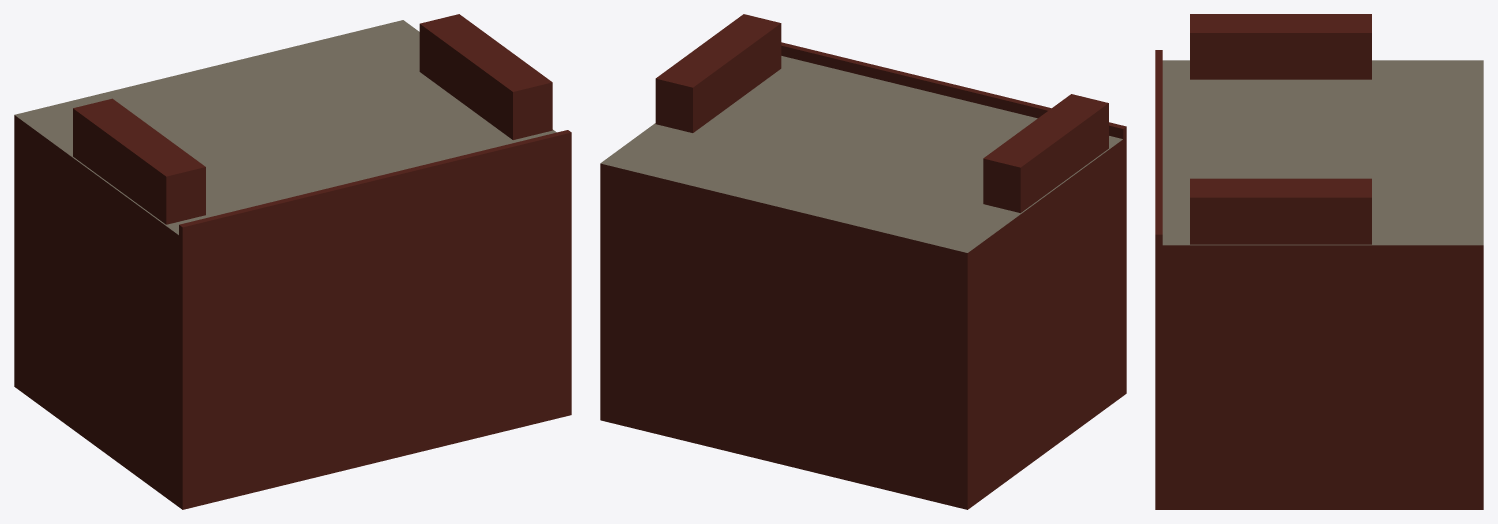
File: mh-dutch-duplex.towns-v1.lod2.glb
The picture shows the model from 3 angles, left to right: view 1: azimuth 30°, elevation 25°; view 2: azimuth 150°, elevation 25°; view 3: azimuth 270°, elevation 25°; orthographic projection. The views are drawn at different scales.
Parts seen in each view (by area): view 1: mh-dutch-duplex; view 2: mh-dutch-duplex; view 3: mh-dutch-duplex.
Boxes of the visible parts, x1,y1,x2,y2 form: mh-dutch-duplex: [14, 14, 571, 509]; mh-dutch-duplex: [600, 14, 1126, 509]; mh-dutch-duplex: [1155, 14, 1483, 509].
Size of the model in its own units: 15.2 by 11.95 by 11.4.
